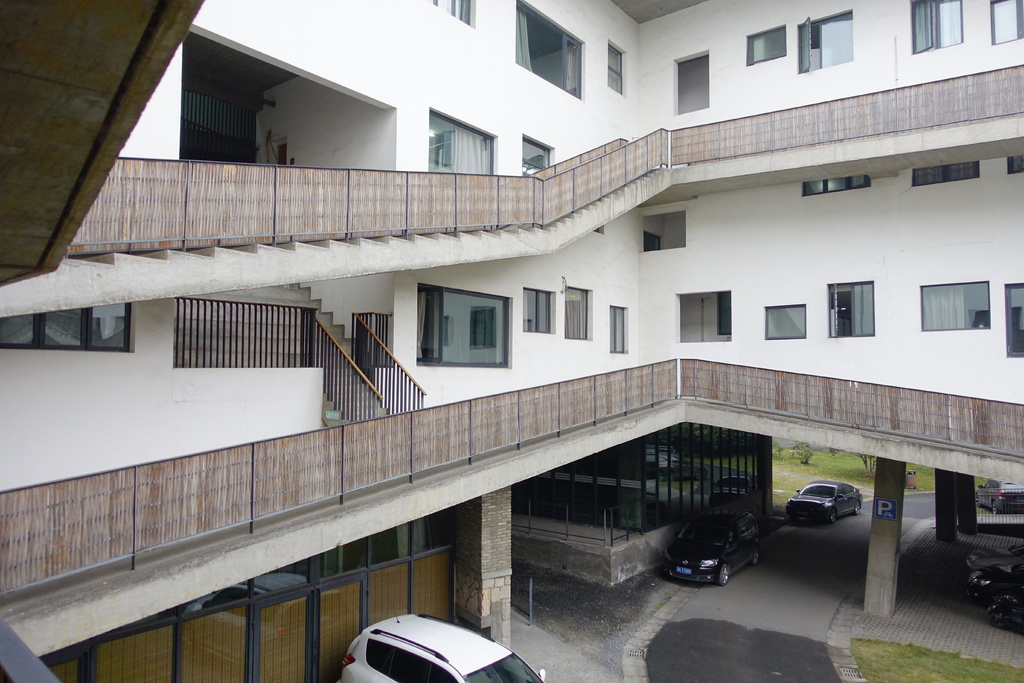mobil: (660, 505, 770, 589), (782, 476, 861, 534)
